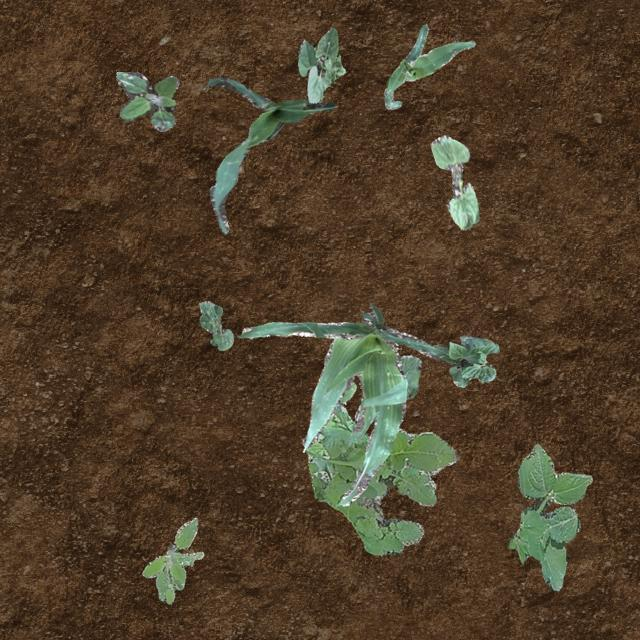crop: (236, 302, 442, 504), (205, 76, 336, 232), (382, 22, 473, 108), (354, 354, 422, 421), (430, 134, 478, 228), (296, 27, 344, 102), (432, 334, 498, 386), (198, 300, 232, 350), (338, 381, 356, 405)
weed: (304, 404, 458, 554), (508, 442, 592, 590), (142, 516, 202, 602), (114, 70, 178, 130)
